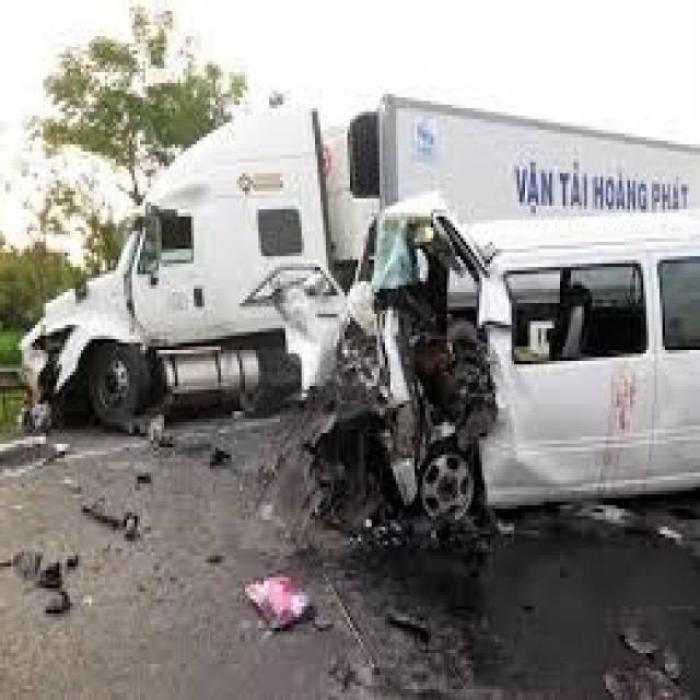Accident: (242, 209, 560, 570), (6, 244, 206, 440)
